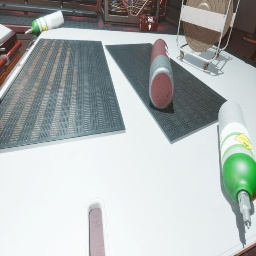0: (218, 100, 256, 229), (25, 11, 64, 37)
FirstAidBox ,: (139, 11, 157, 31)
NitrogenTank ,: (149, 38, 175, 110)
